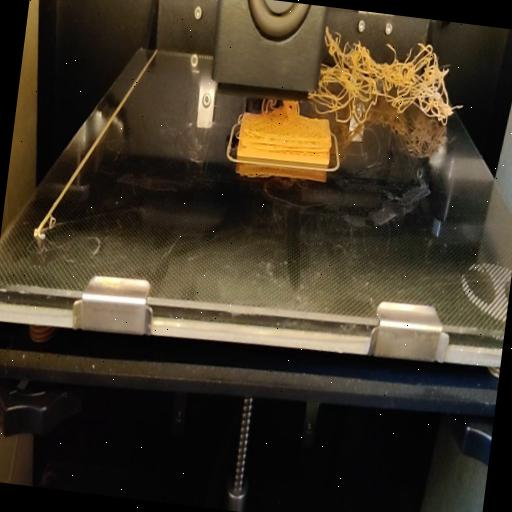spaghetti: (308, 22, 476, 142)
